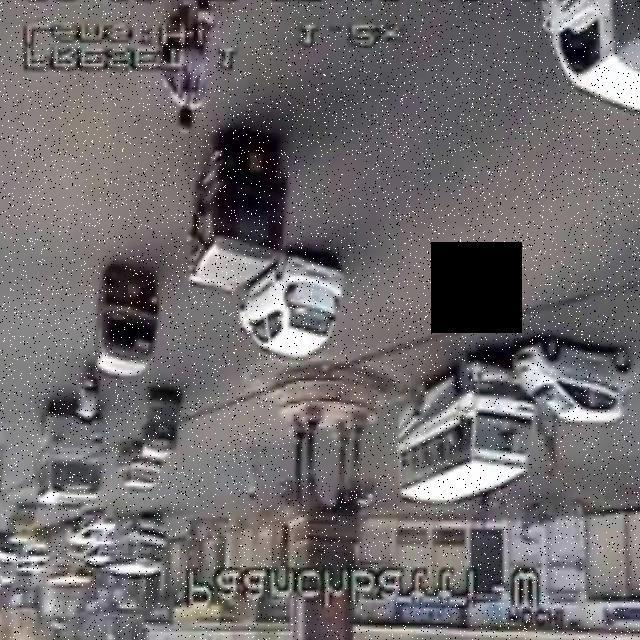vehicle: (384, 337, 630, 498)
